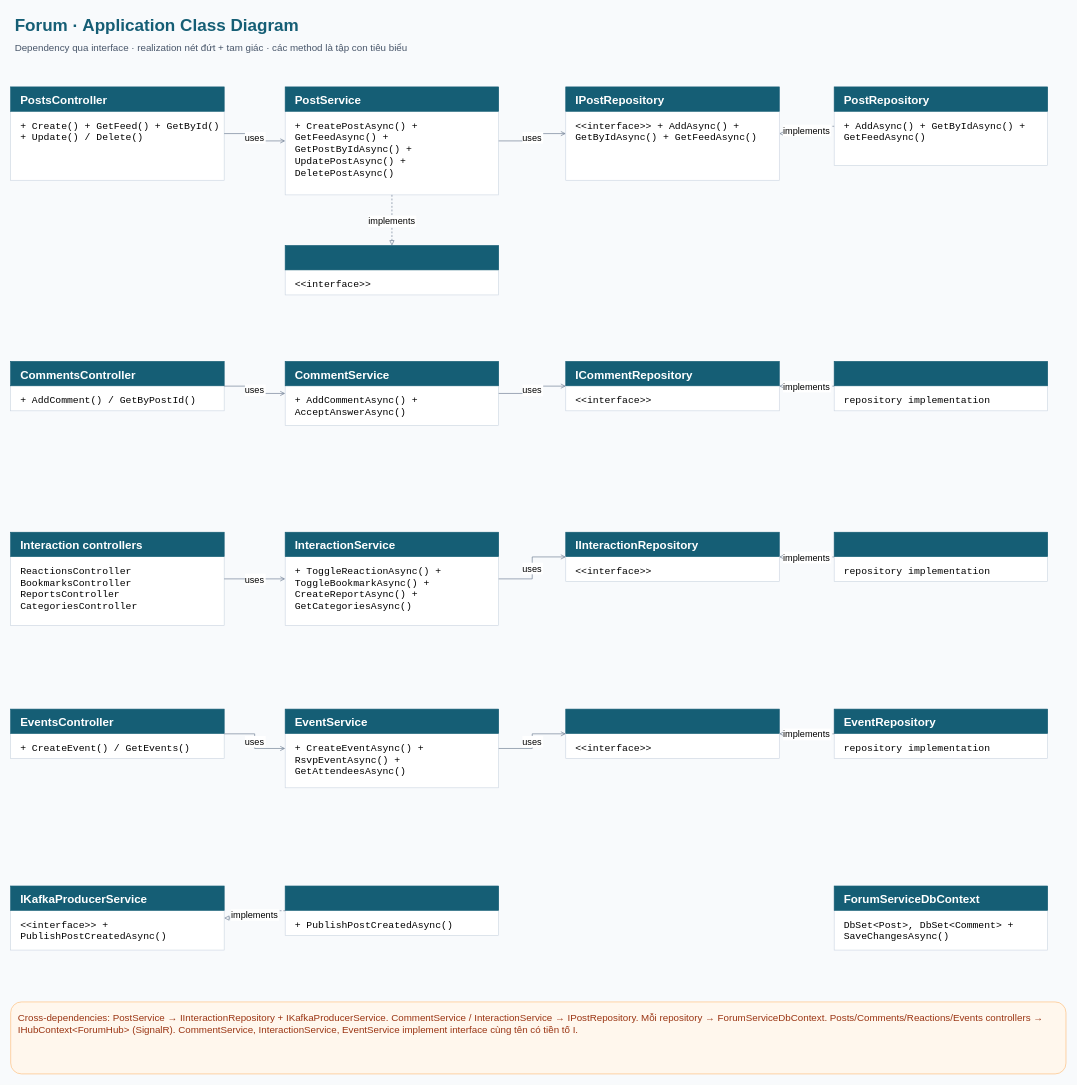
This 1077x1085 diagram has some shape labels left out. The centre of each missing label's shape, as x and y in pixels:
"CommentRepository" goes at point (941, 373).
"IEventRepository" goes at point (672, 721).
"InteractionRepository" goes at point (941, 544).
"IPostService" goes at point (392, 257).
"KafkaProducerService" goes at point (392, 897).
